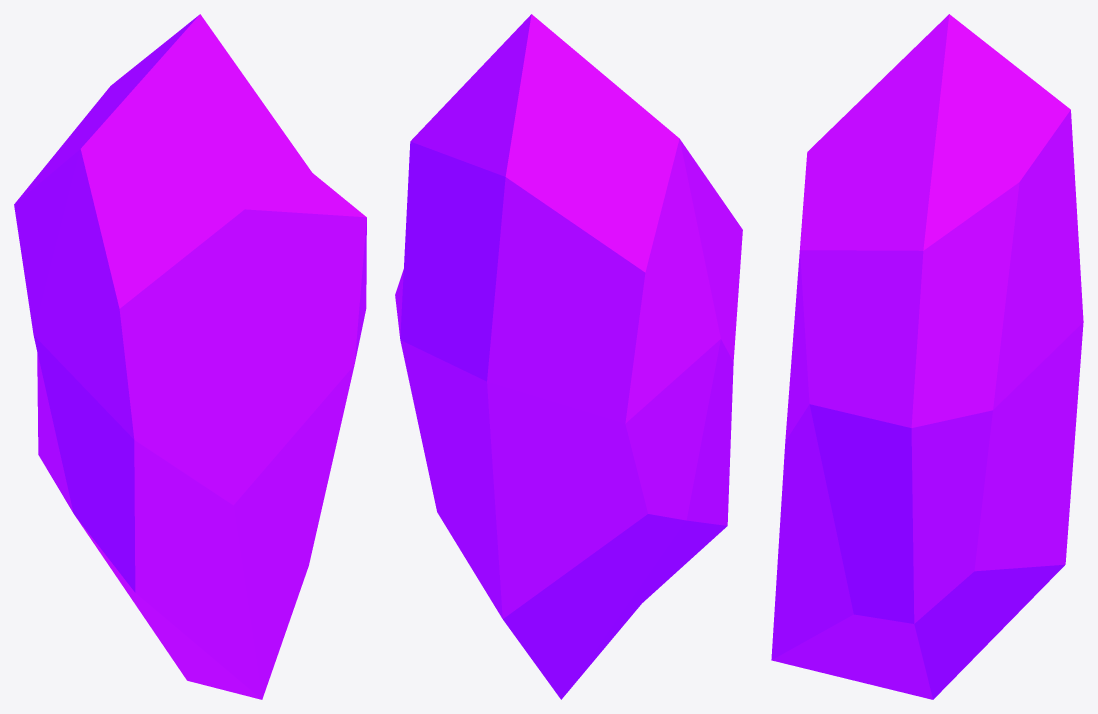
Rendered from crystal_4.glb.
3 views of the same model, side by side, from view 1: azimuth 30°, elevation 25°; view 2: azimuth 150°, elevation 25°; view 3: azimuth 270°, elevation 25° (orthographic). The views are drawn at different scales.
Visible parts, largest first — view 1: crystal_4; view 2: crystal_4; view 3: crystal_4.
Boxes of the visible parts, x1,y1,x2,y2 form: crystal_4: (14,14,366,699); crystal_4: (395,14,742,699); crystal_4: (771,14,1083,699).
Bounding box in the file's own units: 4.05 × 7.88 × 3.2.
